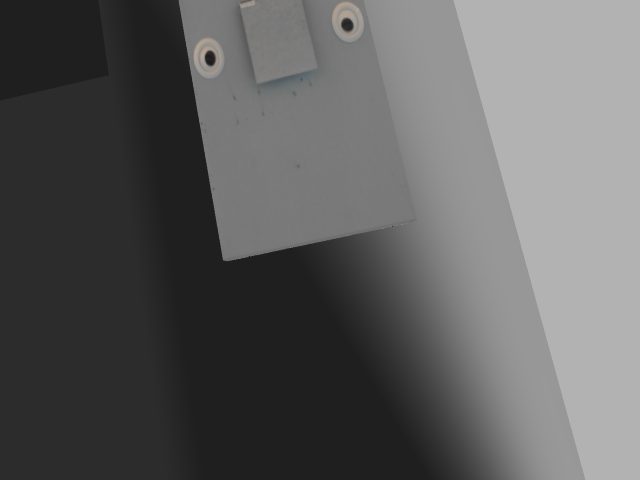facade: (193, 0, 365, 88)
